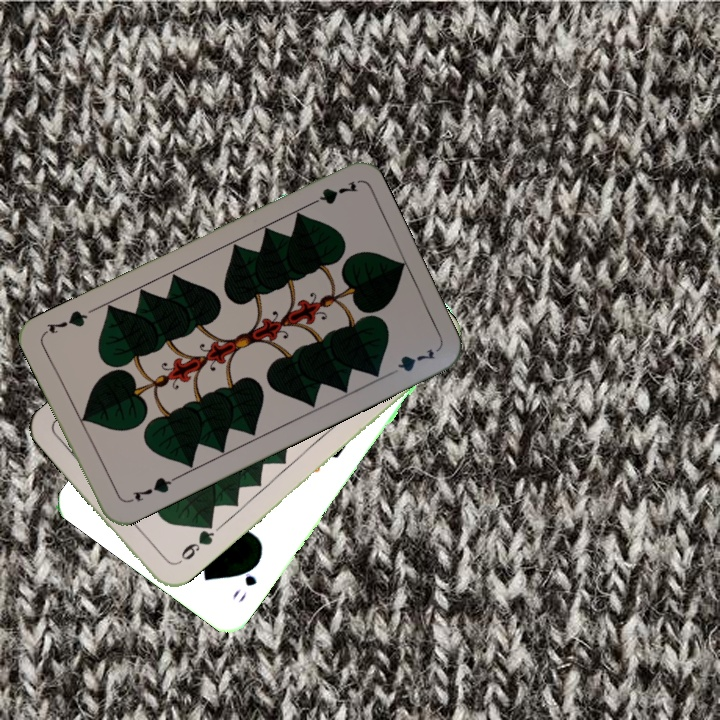G7: (302, 176, 360, 210), (123, 473, 179, 505)
G9: (171, 520, 218, 568)
GO: (228, 556, 263, 605)
